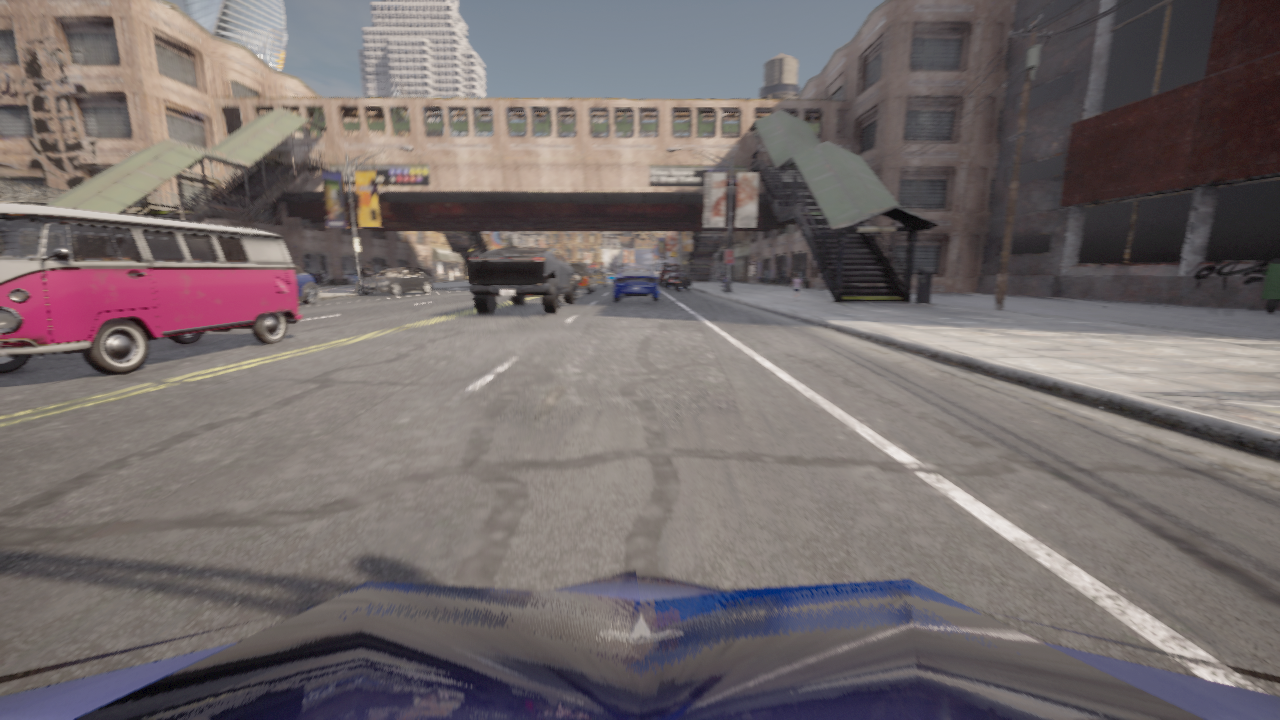cyclist: (0, 569, 1279, 719), (466, 246, 577, 313), (359, 268, 432, 295), (614, 266, 658, 301), (292, 262, 317, 304), (567, 262, 595, 293), (656, 264, 681, 286), (664, 272, 690, 288), (589, 269, 607, 287), (674, 274, 691, 291), (606, 272, 614, 282), (721, 274, 726, 290)
pedestrian: (790, 274, 801, 301), (365, 262, 372, 277), (360, 263, 366, 279), (385, 263, 390, 269), (417, 265, 421, 270)
